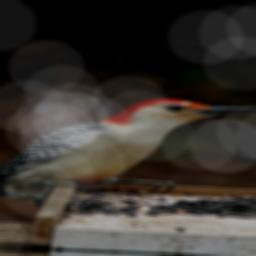Woodpecker: (0, 91, 256, 217)
